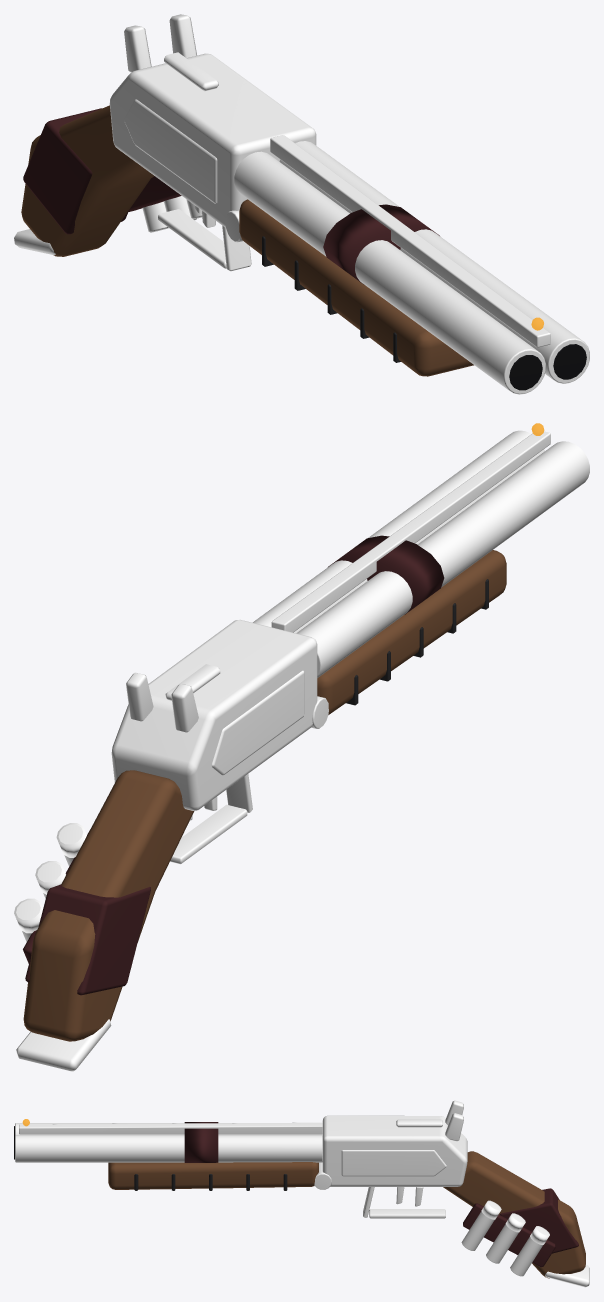
Rendered from shotgun_double.glb.
3 views of the same model, one above another, from view 1: azimuth 30°, elevation 25°; view 2: azimuth 150°, elevation 25°; view 3: azimuth 270°, elevation 25° (orthographic). The views are drawn at different scales.
Visible parts, largest first — view 1: barrel, action, forend, grip, rib, barrel.001, grip_wrap, action_engrave, tape, guard_bottom, hammer, bore (+7 smaller); view 2: grip, action, barrel, forend, rib, grip_wrap, barrel.001, action_engrave, tape, grip_cap, guard_bottom, hammer.001 (+1 smaller); view 3: barrel.001, action, forend, grip, rib, action_engrave, grip_wrap, tape, shell_loop, guard_bottom, shell.002, shell.001 (+6 smaller).
Part boxes in pixels (box(x1,y1,x2,y2)): barrel: box(234, 151, 545, 394); action: box(109, 53, 316, 227); forend: box(239, 199, 473, 376); grip: box(21, 105, 154, 256); rib: box(270, 135, 550, 347); barrel.001: box(279, 141, 589, 383); grip_wrap: box(23, 108, 128, 234); action_engrave: box(124, 99, 217, 203); tape: box(323, 204, 439, 284); guard_bottom: box(158, 209, 226, 268); hammer: box(124, 25, 151, 72); bore: box(509, 355, 542, 390); grip: box(23, 770, 194, 1041); action: box(111, 619, 317, 810); barrel: box(296, 441, 589, 677); forend: box(317, 550, 506, 714); rib: box(271, 431, 550, 632); grip_wrap: box(25, 884, 150, 995); barrel.001: box(253, 430, 544, 633); action_engrave: box(211, 670, 304, 775); tape: box(328, 535, 444, 614); grip_cap: box(16, 1019, 111, 1071); guard_bottom: box(170, 804, 247, 864); hammer.001: box(126, 672, 153, 721); barrel.001: box(15, 1135, 322, 1162); action: box(322, 1115, 467, 1186); forend: box(108, 1162, 318, 1189); grip: box(443, 1151, 585, 1278); rib: box(19, 1122, 322, 1134); action_engrave: box(341, 1150, 446, 1176); grip_wrap: box(500, 1188, 578, 1253); tape: box(184, 1122, 218, 1162); shell_loop: box(463, 1203, 555, 1267); guard_bottom: box(369, 1209, 445, 1218); shell.002: box(510, 1226, 548, 1276); shell.001: box(486, 1214, 524, 1263).
Size of the model in its own units: 0.0821 by 0.2042 by 0.6178.
